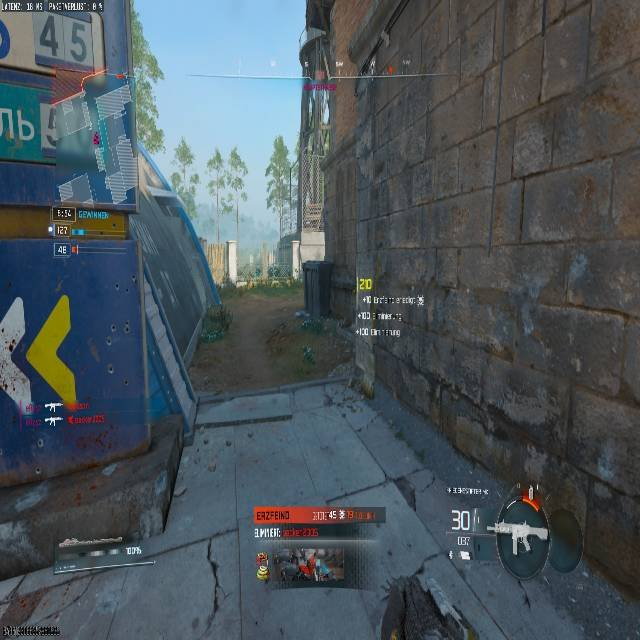player: (302, 344, 314, 364)
